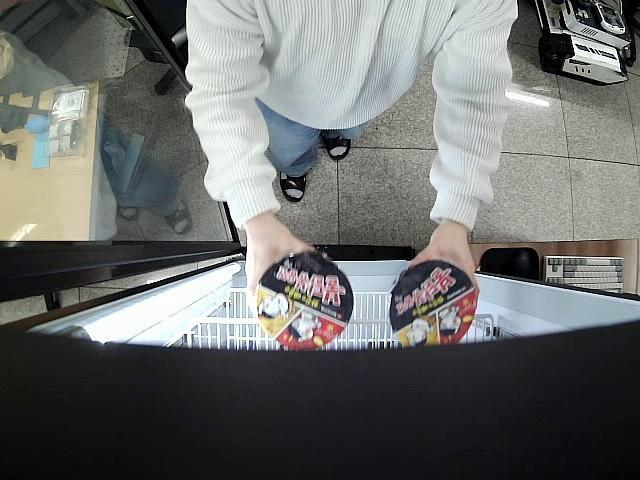07_buldak_L: (252, 252, 356, 347), (389, 263, 476, 346)
